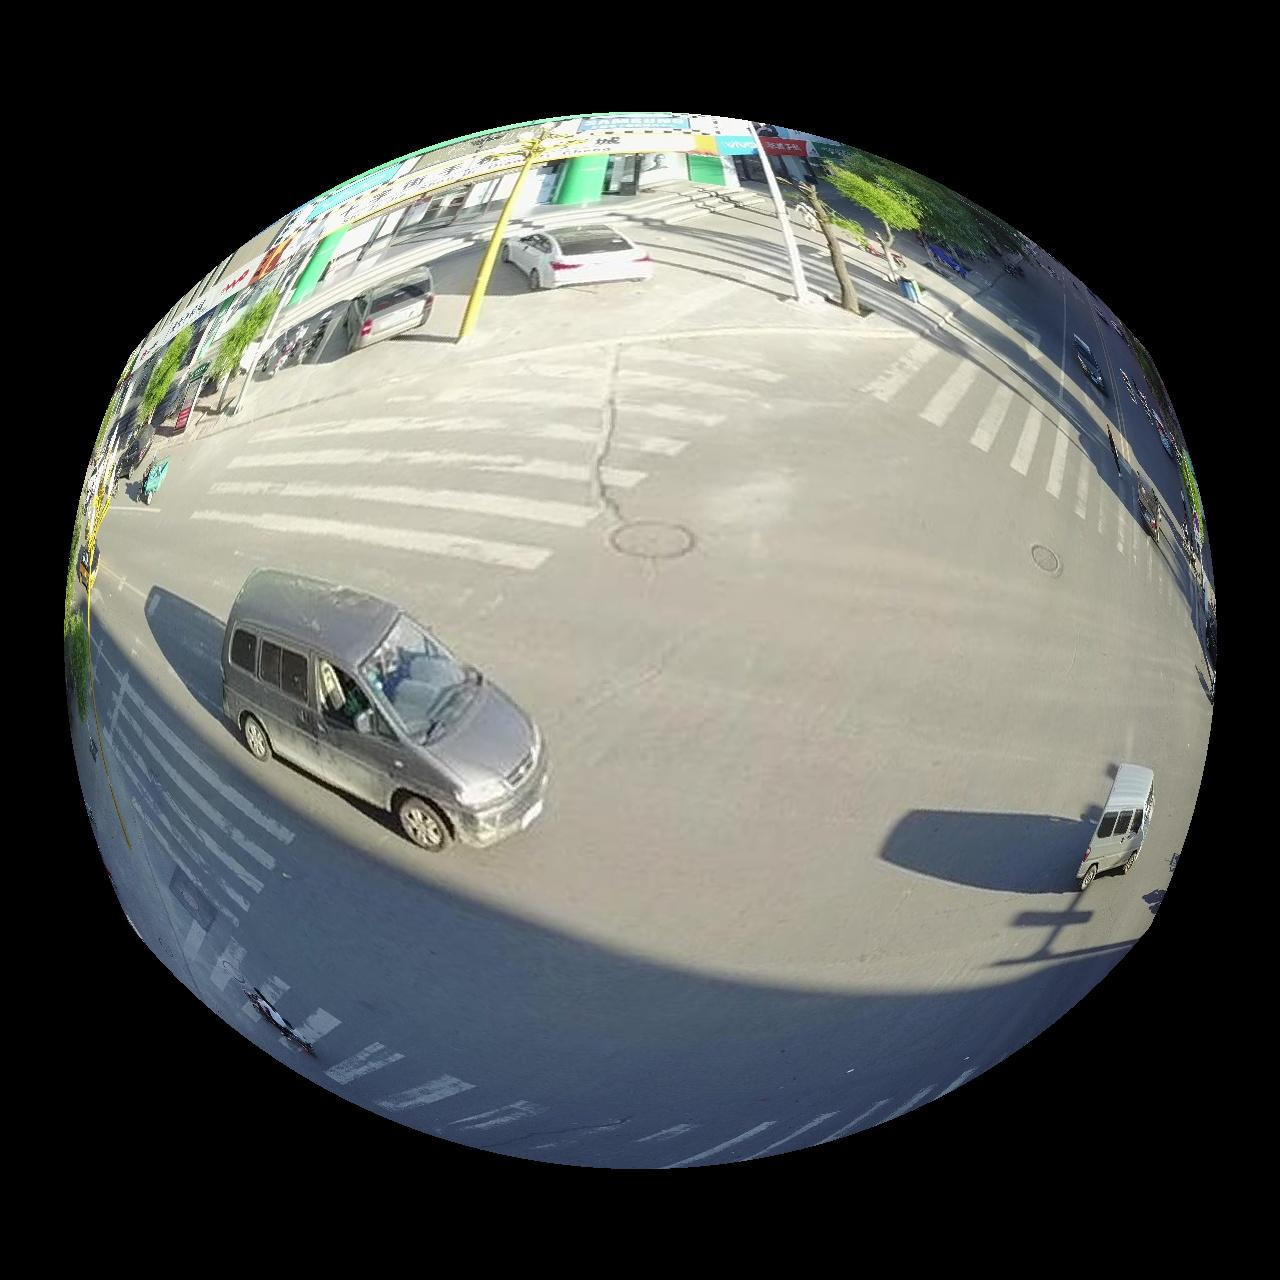cars: (220, 570, 549, 851), (501, 223, 654, 288), (1080, 765, 1157, 892), (345, 267, 434, 350)
trees: (829, 163, 922, 240)
